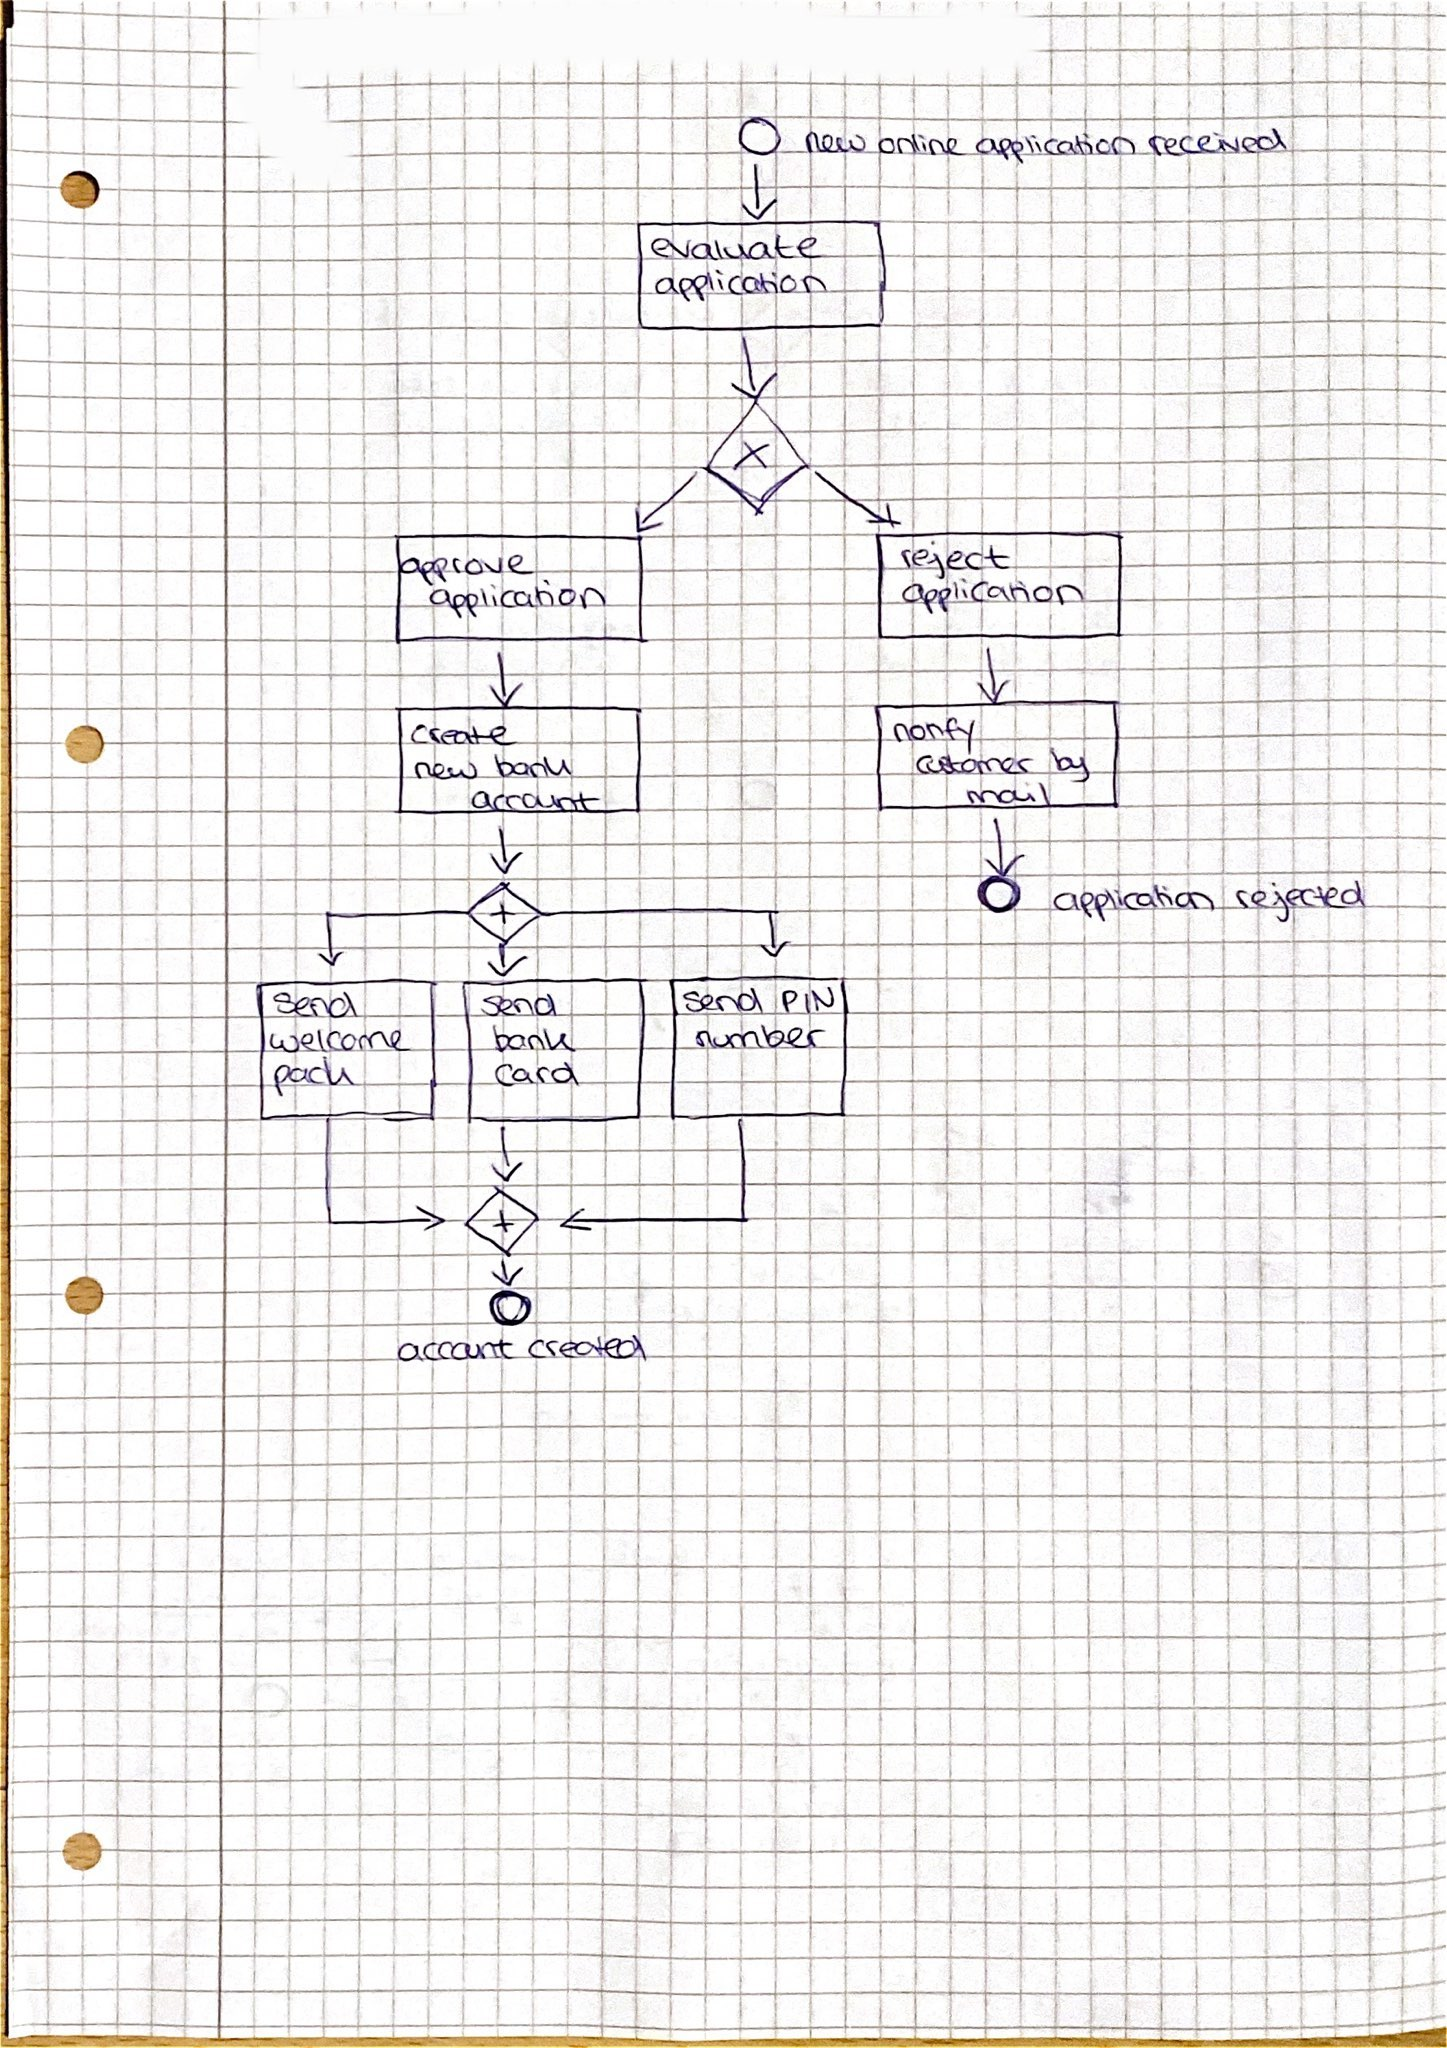PIN: (781, 985, 839, 1018)
account: (393, 1332, 515, 1368), (467, 788, 601, 813)
application: (1048, 878, 1225, 921), (429, 579, 611, 620), (900, 578, 1085, 614), (659, 269, 830, 305), (972, 128, 1140, 164)
approve: (402, 548, 532, 584)
bank: (489, 1022, 575, 1060), (489, 750, 573, 781)
by: (1049, 745, 1093, 786)
card: (490, 1058, 583, 1090)
create: (406, 723, 518, 748)
created: (521, 1328, 648, 1368)
customer: (910, 750, 1040, 780)
evaluate: (648, 232, 822, 265)
mail: (963, 780, 1052, 809)
new: (800, 124, 871, 160), (410, 756, 482, 784)
notify: (889, 714, 983, 748)
number: (687, 1024, 828, 1055)
online: (875, 125, 974, 161)
pack: (266, 1057, 359, 1094)
received: (1146, 125, 1287, 161)
reject: (893, 540, 1013, 579)
rejected: (1229, 875, 1369, 922)
send: (269, 986, 357, 1024), (680, 986, 766, 1018), (478, 993, 562, 1019)
welcome: (266, 1026, 409, 1057)
